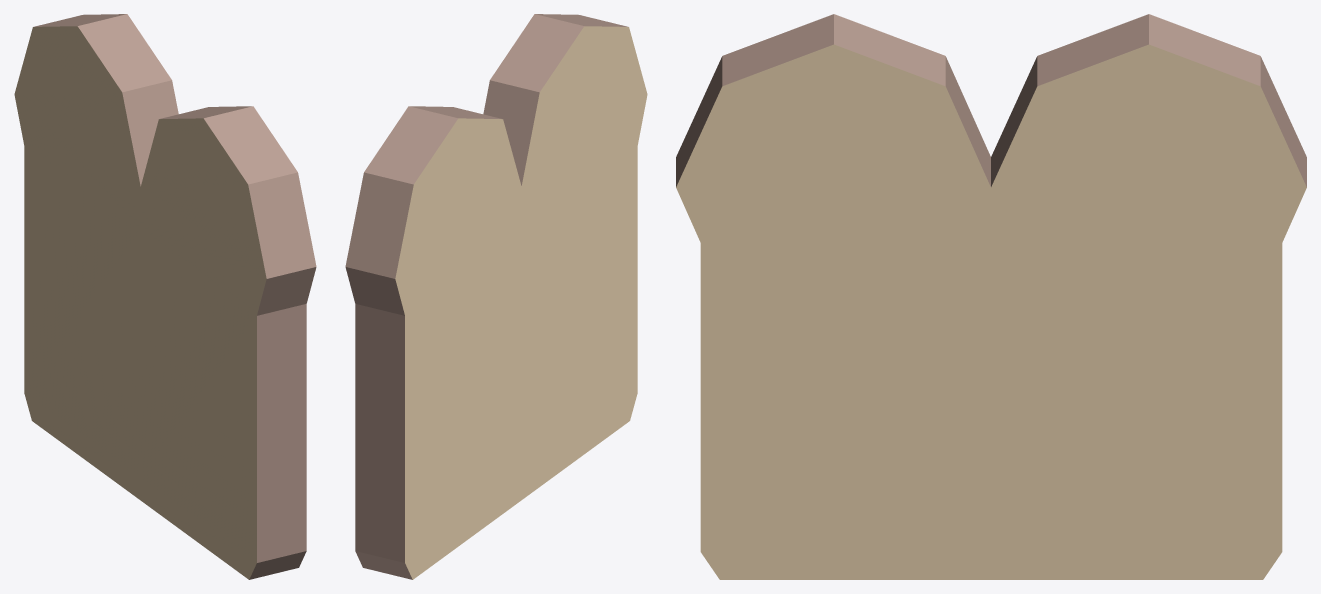
The model's file is Toast_01.gltf.
3 renders of one model, left to right at view 1: azimuth 30°, elevation 25°; view 2: azimuth 150°, elevation 25°; view 3: azimuth 270°, elevation 25°, orthographic. The views are drawn at different scales.
Visible parts, largest first — view 1: node-0; view 2: node-0; view 3: node-0.
Part boxes in pixels (box(x1,y1,x2,y2)): node-0: box(14, 14, 316, 579); node-0: box(345, 14, 647, 579); node-0: box(676, 14, 1306, 579).
Size of the model in its own units: 0.0605 by 0.4964 by 0.53.
